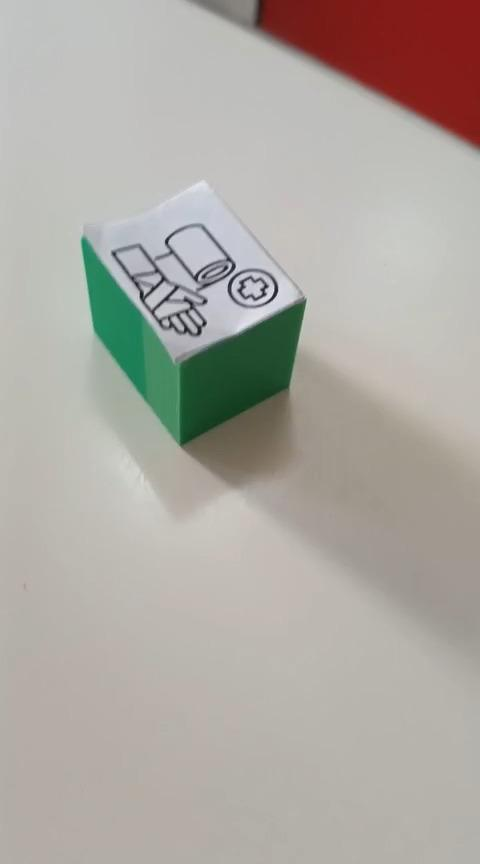Bandages: (79, 178, 307, 447)
